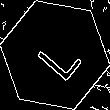L_NW: (27, 27, 83, 83)
